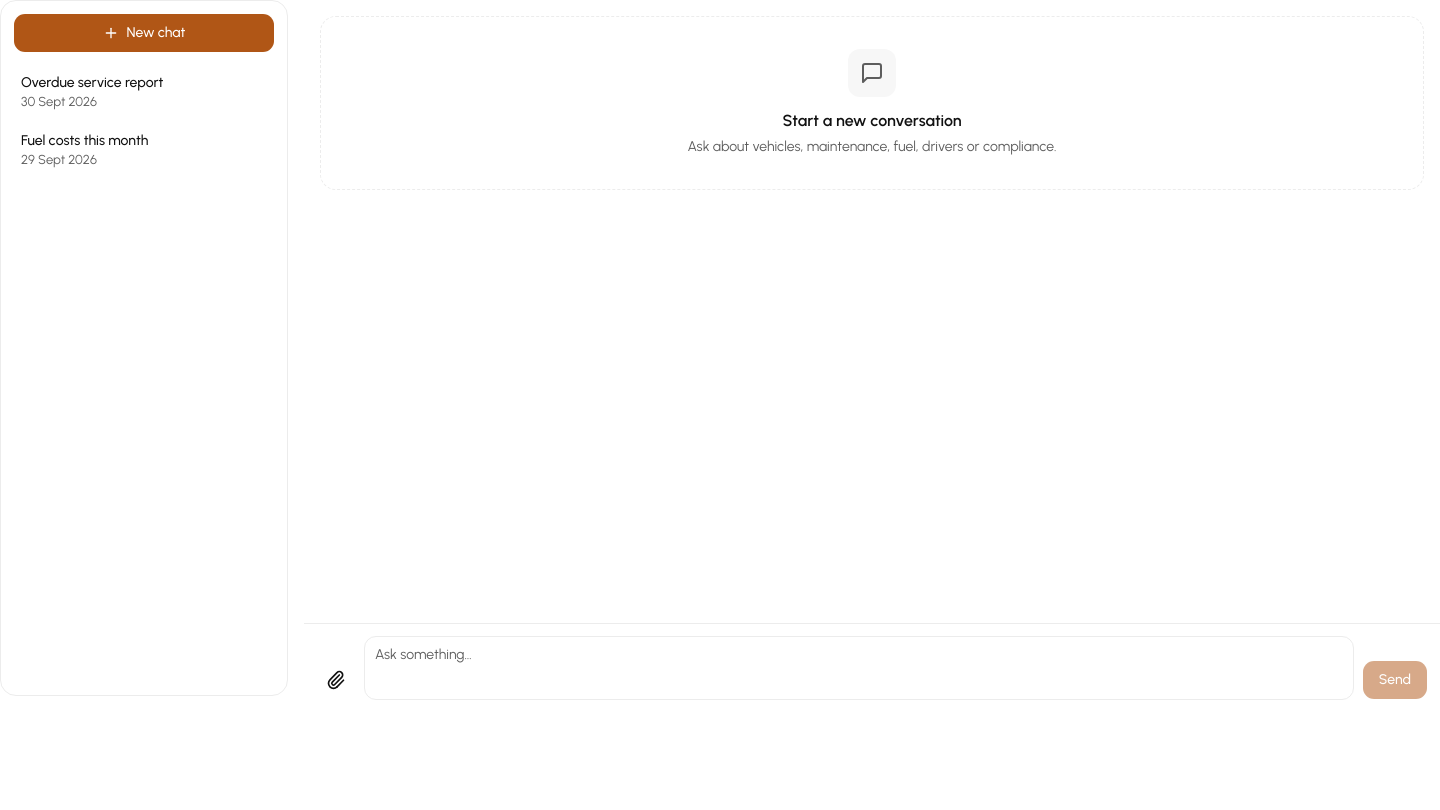
Test: ChatPage › sending messages › in a new chat, creates the session first, puts it in the URL, then sends with that explicit id
Type "Which vehicles are overdue?" into the text box with placeholder "Ask something…" at x=859, y=668, box x1=364 y1=636 x2=1354 y2=700
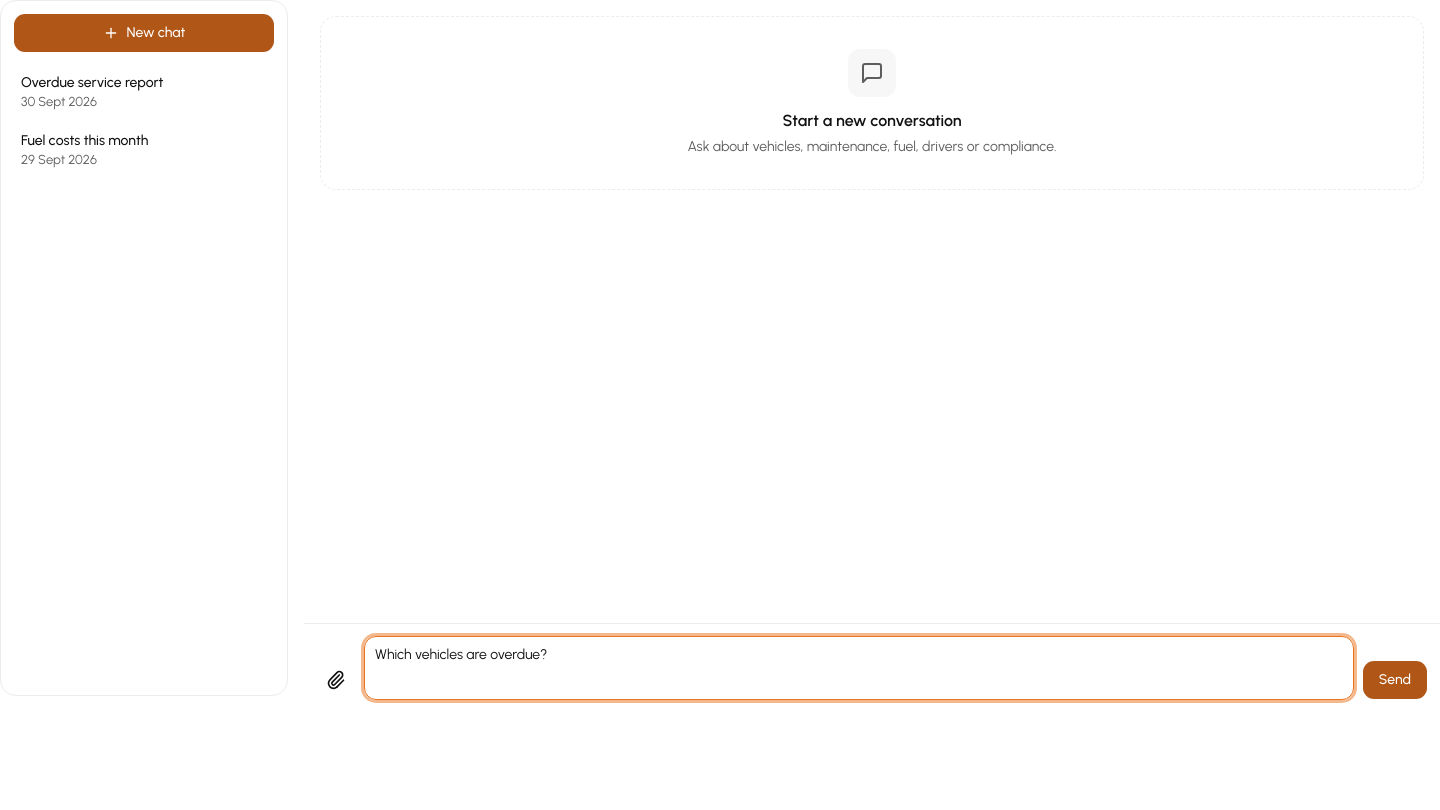
Click the button "Send" at x=1395, y=680, box x1=1362 y1=660 x2=1428 y2=700
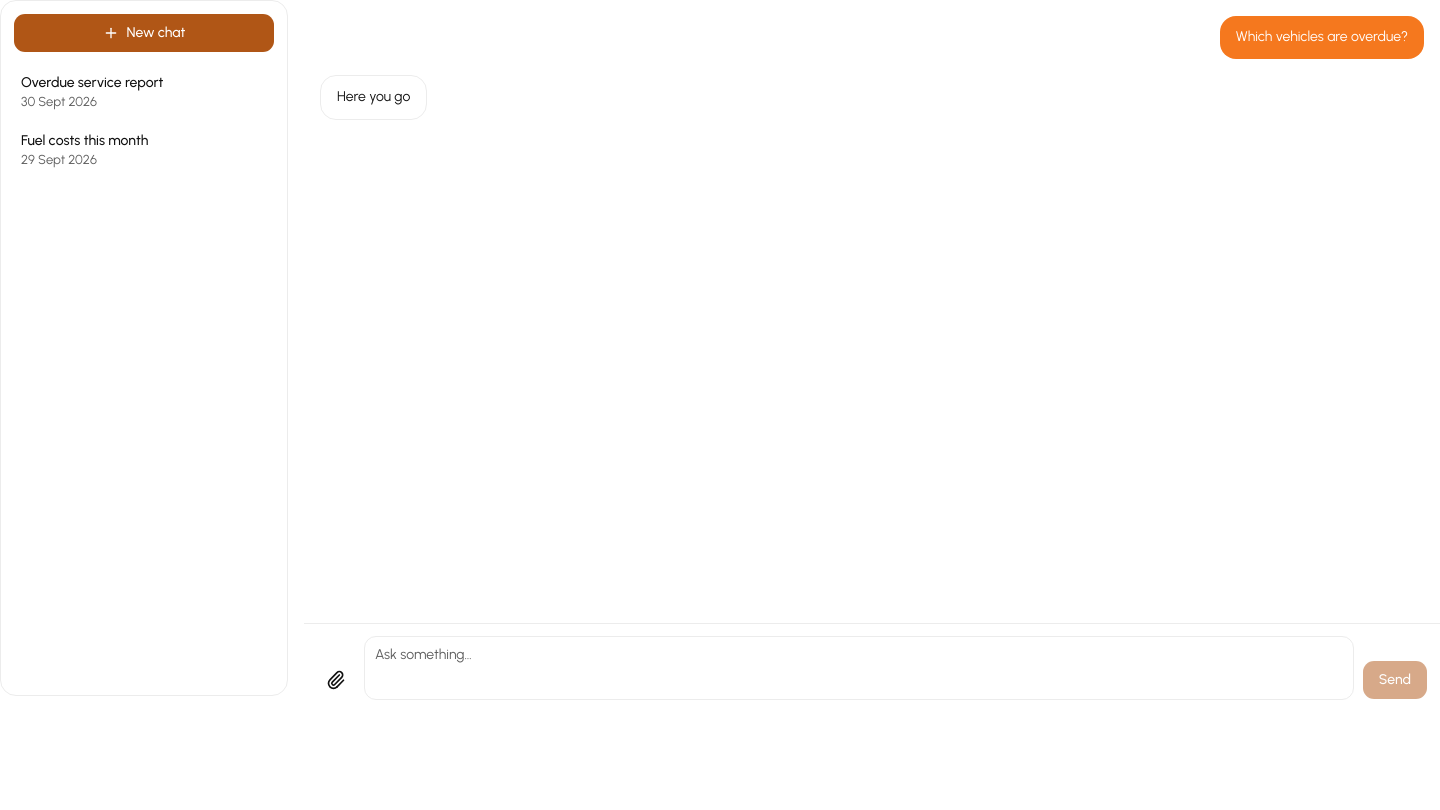
Expected: the text "Here you go" is shown, x1=337 y1=86 x2=410 y2=109
